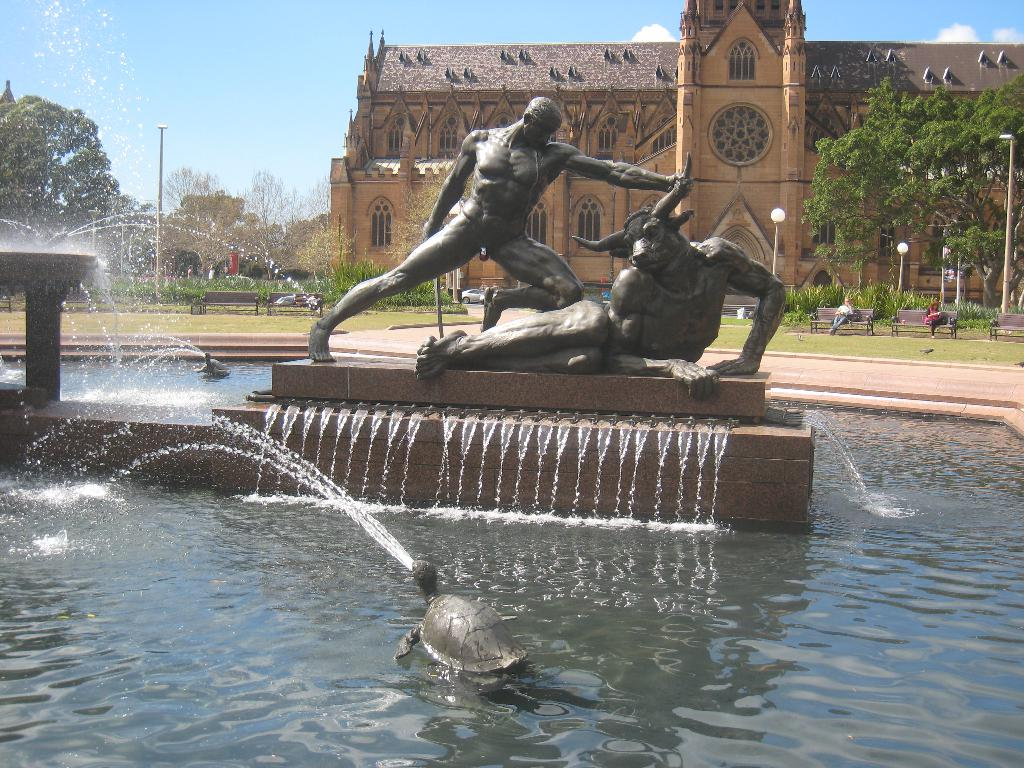Sea turtles: (391, 552, 529, 675), (190, 348, 231, 376)
